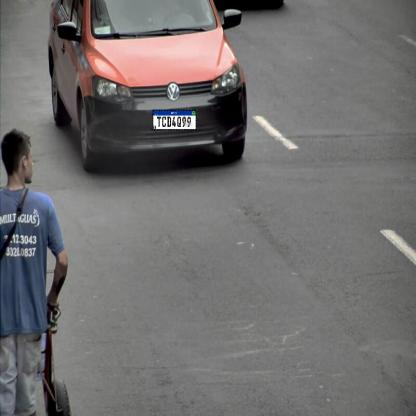PlacaM: (152, 109, 196, 130)
